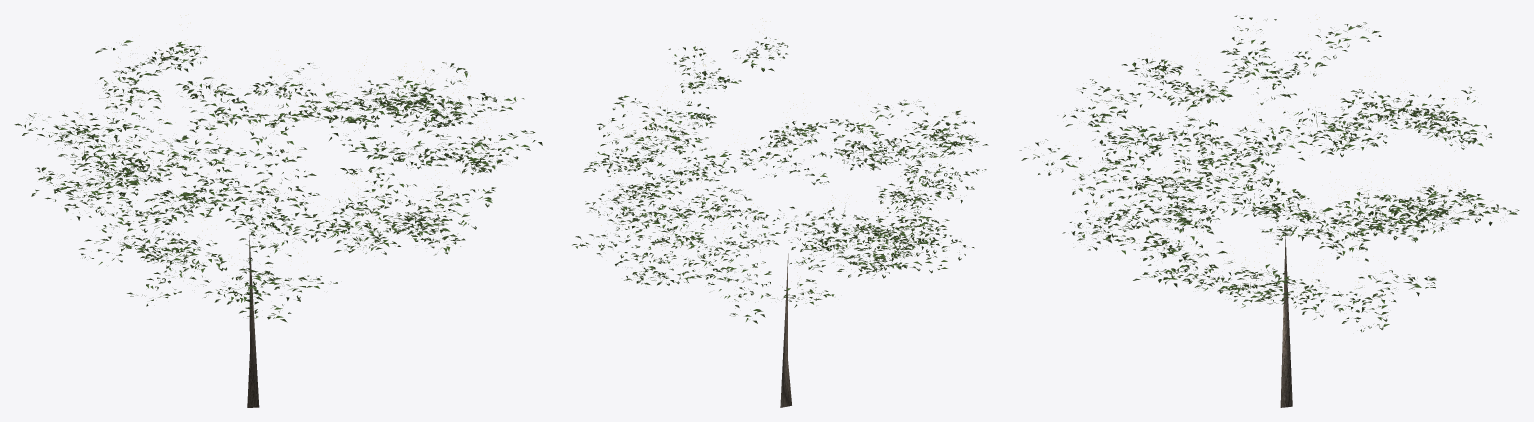
The model's file is koelreuteria-3-lite.glb.
3 renders of one model, left to right at view 1: azimuth 30°, elevation 25°; view 2: azimuth 150°, elevation 25°; view 3: azimuth 270°, elevation 25°, orthographic. The views are drawn at different scales.
Visible parts, largest first — view 1: leaf-edge, leaf, bark; view 2: leaf-edge, leaf, bark; view 3: leaf-edge, leaf, bark.
Part boxes in pixels (bbox=[...]): leaf-edge: bbox=[14, 40, 542, 322]; leaf: bbox=[31, 40, 529, 318]; bark: bbox=[247, 234, 259, 407]; leaf-edge: bbox=[572, 37, 988, 323]; leaf: bbox=[575, 45, 968, 321]; bark: bbox=[780, 253, 791, 407]; leaf-edge: bbox=[1019, 15, 1519, 331]; leaf: bbox=[1033, 27, 1514, 327]; bark: bbox=[1280, 236, 1292, 407].
Bounding box in the file's own units: 4.54 × 3.39 × 4.45.
Materials: 5 (4 with a texture image).
